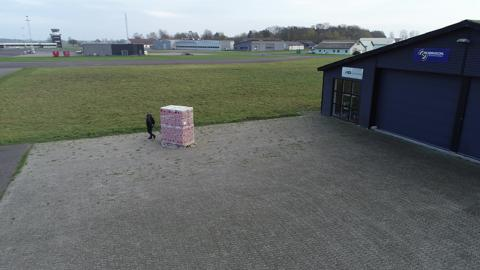RockwoolPallet: (159, 103, 196, 148)
